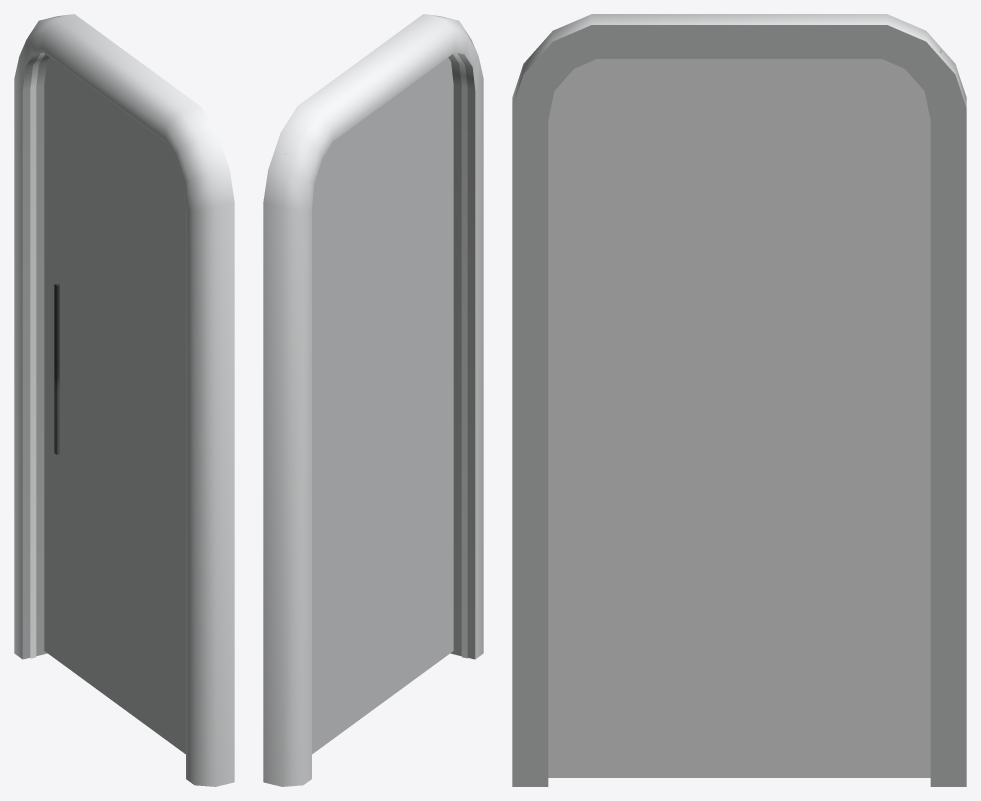
Rendered from M_woshimen01.FBX.
3 renders of one model, left to right at view 1: azimuth 30°, elevation 25°; view 2: azimuth 150°, elevation 25°; view 3: azimuth 270°, elevation 25°, orthographic. The views are drawn at different scales.
Visible parts, largest first — view 1: M_woshimen01_01, M_woshimen01_02; view 2: M_woshimen01_01, M_woshimen01_02; view 3: M_woshimen01_01.
Boxes of the visible parts, x1,y1,x2,y2 form: M_woshimen01_01: (14,14,234,786); M_woshimen01_02: (30,52,44,658); M_woshimen01_01: (263,14,483,786); M_woshimen01_02: (453,52,467,658); M_woshimen01_01: (512,14,966,786).
Bounding box in the file's own units: 0.1692 × 3.17 × 1.71.
